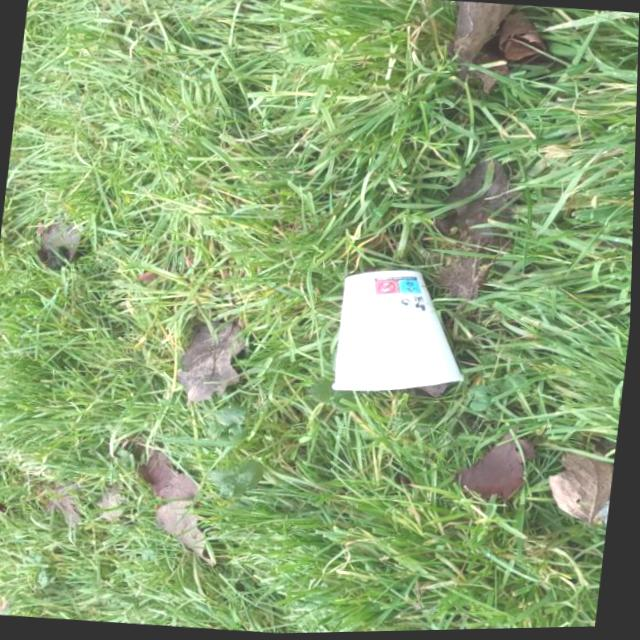Cup: (326, 266, 480, 403)
